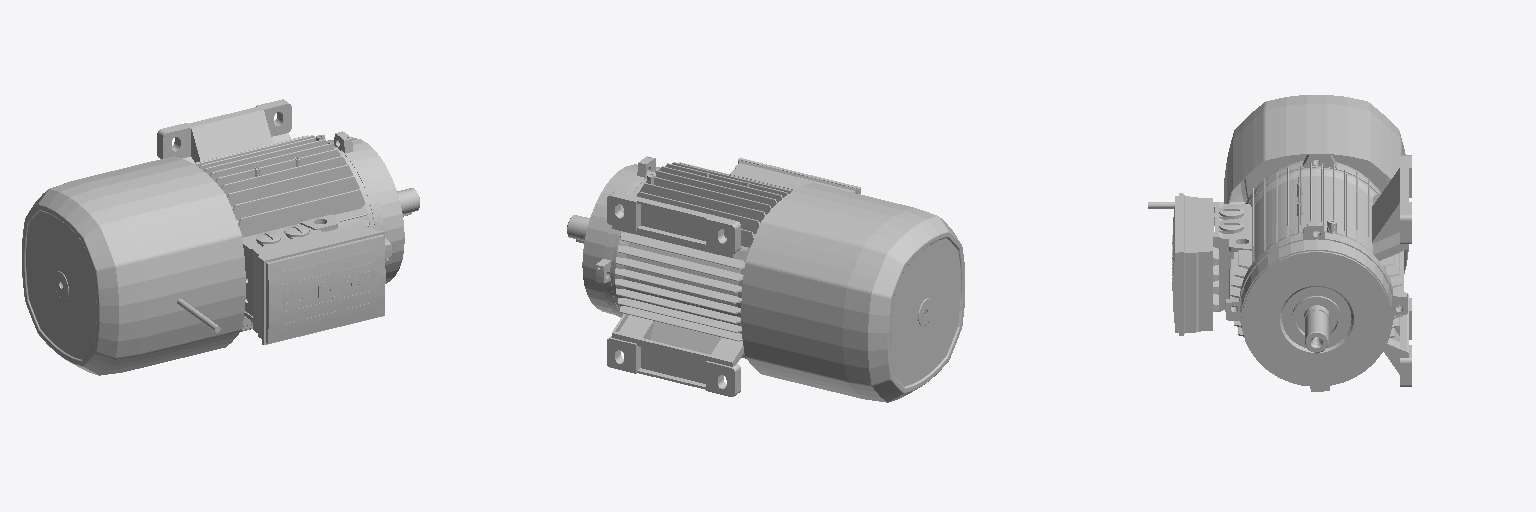
File: motor.obj
The picture shows the model from 3 angles: view 1: azimuth 30°, elevation 25°; view 2: azimuth 150°, elevation 25°; view 3: azimuth 270°, elevation 25°; orthographic projection.
Visible parts, largest first — view 1: BNMOS_[number redacted]_M-12, BNMOS_[number redacted]_M-5, BNMOS_[number redacted]_M-4, BNMOS_[number redacted]_M-1, BNMOS_[number redacted]_M-11; view 2: BNMOS_[number redacted]_M-12, BNMOS_[number redacted]_M-5, BNMOS_[number redacted]_M-1, BNMOS_[number redacted]_M-11; view 3: BNMOS_[number redacted]_M-1, BNMOS_[number redacted]_M-5, BNMOS_[number redacted]_M-12, BNMOS_[number redacted]_M-11, BNMOS_[number redacted]_M-4, BNMOS_[number redacted]_M-2, BNMOS_[number redacted]_M.
Part boxes in pixels (left/top/right/bottom): BNMOS_[number redacted]_M-12: left=22, top=156, right=245, bottom=375; BNMOS_[number redacted]_M-5: left=157, top=99, right=374, bottom=331; BNMOS_[number redacted]_M-4: left=262, top=230, right=385, bottom=344; BNMOS_[number redacted]_M-1: left=327, top=131, right=404, bottom=283; BNMOS_[number redacted]_M-11: left=253, top=223, right=376, bottom=338; BNMOS_[number redacted]_M-12: left=741, top=183, right=964, bottom=402; BNMOS_[number redacted]_M-5: left=607, top=162, right=793, bottom=396; BNMOS_[number redacted]_M-1: left=582, top=156, right=659, bottom=317; BNMOS_[number redacted]_M-11: left=730, top=160, right=858, bottom=193; BNMOS_[number redacted]_M-1: left=1225, top=222, right=1407, bottom=391; BNMOS_[number redacted]_M-5: left=1215, top=155, right=1411, bottom=386; BNMOS_[number redacted]_M-12: left=1224, top=95, right=1408, bottom=273; BNMOS_[number redacted]_M-11: left=1183, top=194, right=1218, bottom=335; BNMOS_[number redacted]_M-4: left=1172, top=193, right=1182, bottom=335; BNMOS_[number redacted]_M-2: left=1304, top=305, right=1329, bottom=352; BNMOS_[number redacted]_M: left=1245, top=155, right=1380, bottom=203.
Bounding box in the file's own units: 484 × 224 × 311.